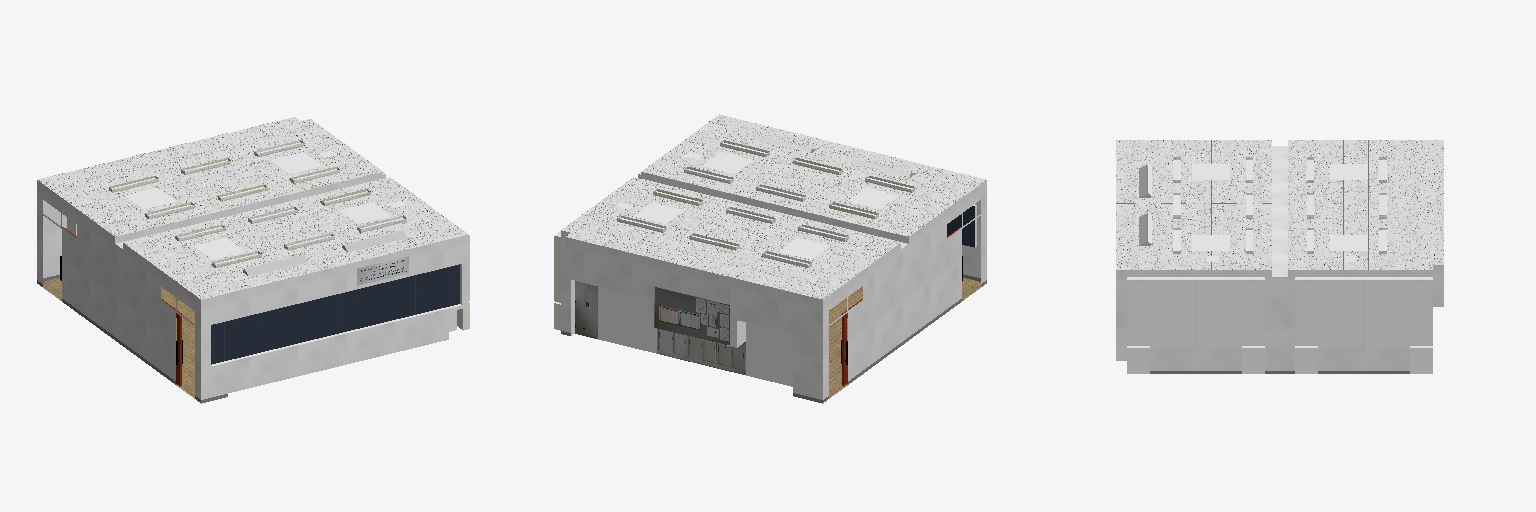
The picture shows the model from 3 angles: view 1: azimuth 30°, elevation 25°; view 2: azimuth 150°, elevation 25°; view 3: azimuth 270°, elevation 25°; orthographic projection.
Parts seen in each view (by area): view 1: ClassRoom; view 2: ClassRoom; view 3: ClassRoom.
Boxes of the visible parts, x1=… form: ClassRoom: x1=37, y1=117, x2=469, y2=403; ClassRoom: x1=554, y1=114, x2=986, y2=403; ClassRoom: x1=1116, y1=140, x2=1443, y2=373.
Bounding box in the file's own units: 8.32 × 3.13 × 8.6.
Materials: 21 (9 with a texture image).